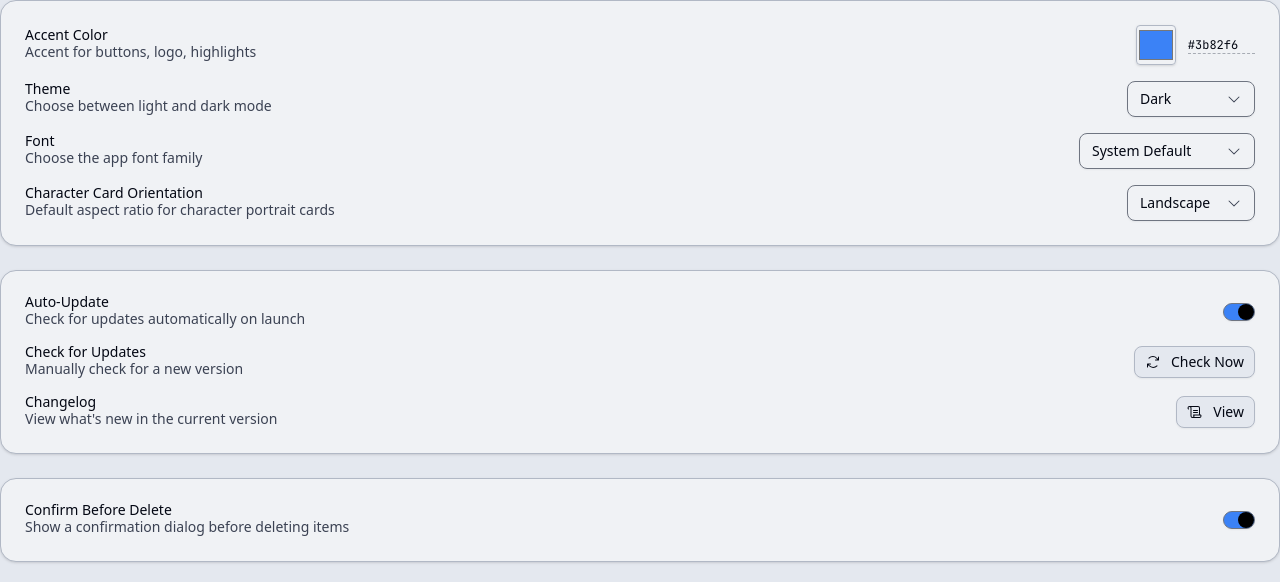
it: GeneralSettings accent color › shows update check failure instead of up-to-date on failed responses
The image size is (1280, 582).
Click the button "Check Now" at (1194, 362), box [1134,346,1255,378]
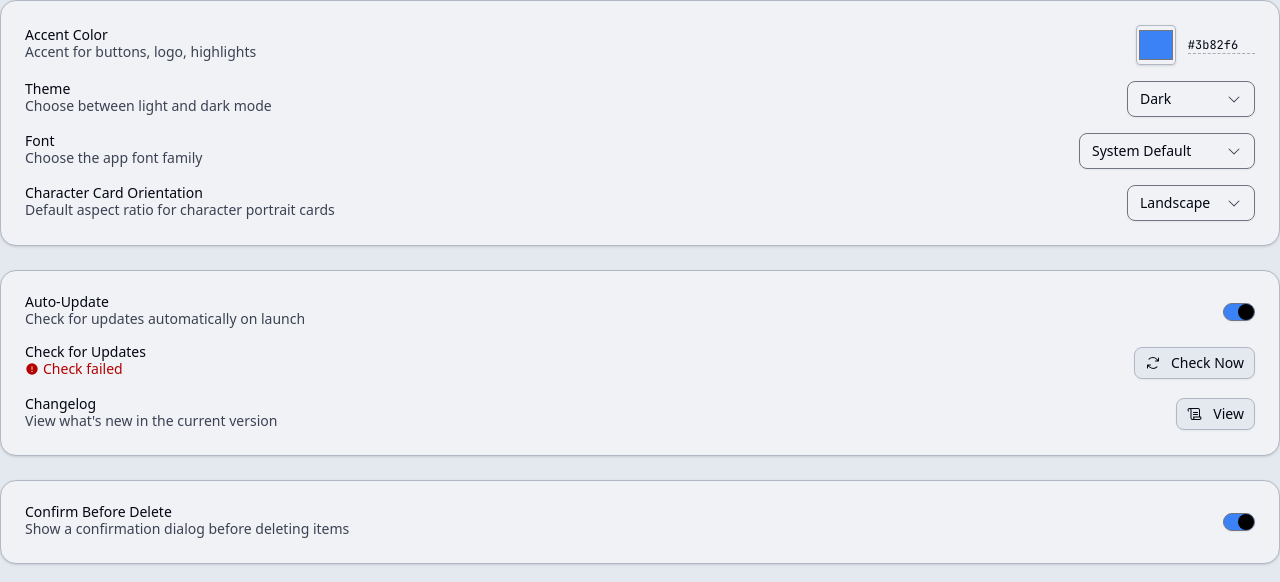
Check: the text "Check failed" is shown, box [25,359,123,379]
